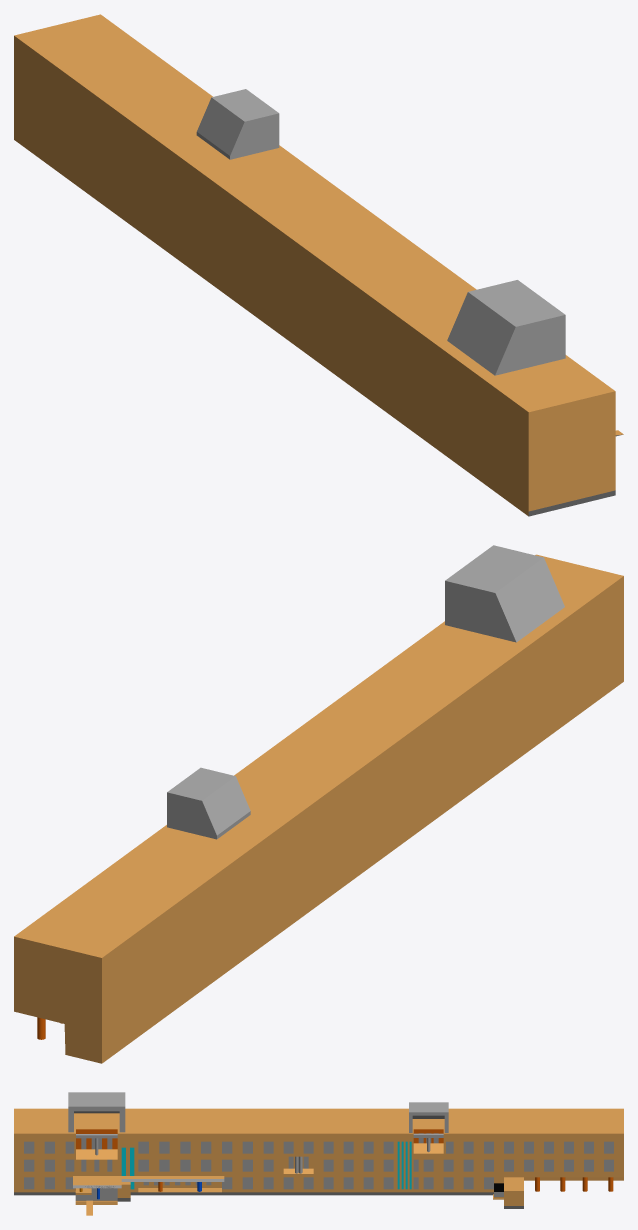
Rendered from DosMares.fbx.
3 renders of one model, top to bottom at view 1: azimuth 30°, elevation 25°; view 2: azimuth 150°, elevation 25°; view 3: azimuth 270°, elevation 25°, orthographic. The views are drawn at different scales.
Visible parts, largest first — view 1: Dos Mares; view 2: Dos Mares; view 3: Dos Mares.
Boxes of the visible parts, x1,y1,x2,y2 form: Dos Mares: (14, 14, 623, 516); Dos Mares: (14, 545, 623, 1063); Dos Mares: (14, 1092, 623, 1215).
Size of the model in its own units: 3140 by 2865 by 17930.
